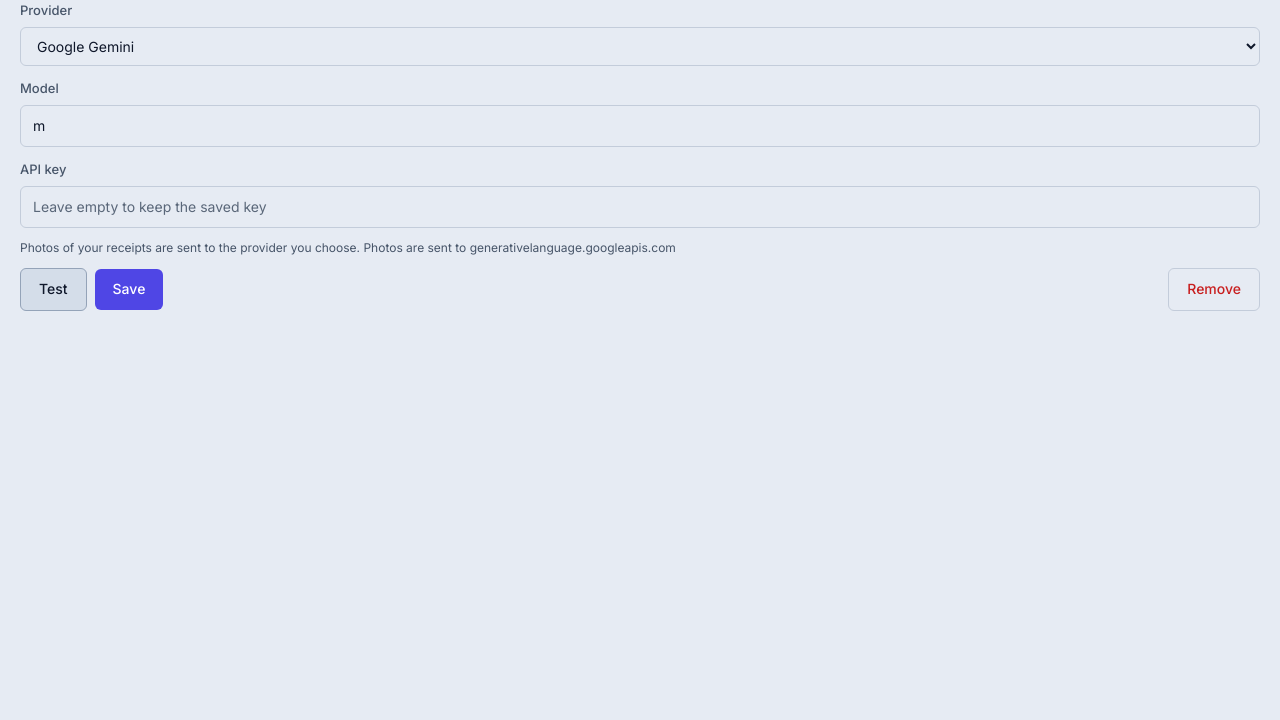
Scenario: cancelling the question removes nothing
This screenshot has width=1280, height=720.
Click the button "Remove": {"x": 1214, "y": 289} left=1168, top=268, right=1260, bottom=311
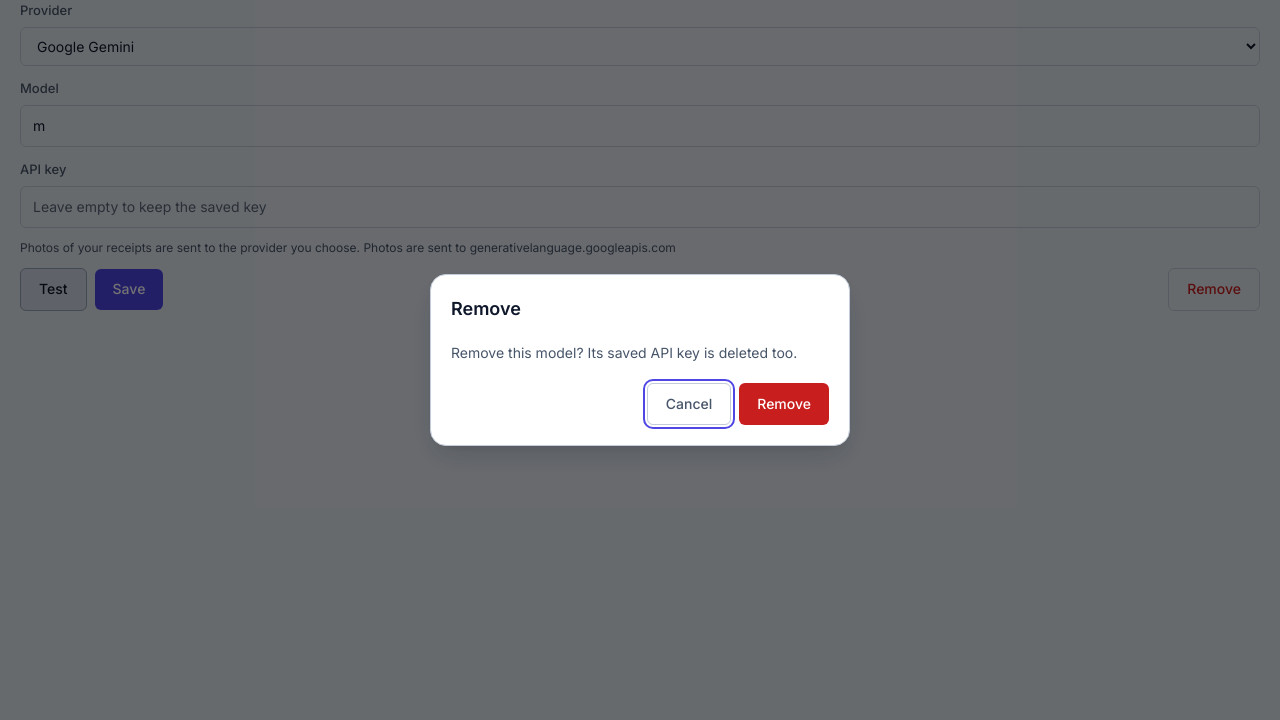
Click the button "Cancel": {"x": 689, "y": 404} left=647, top=383, right=731, bottom=425
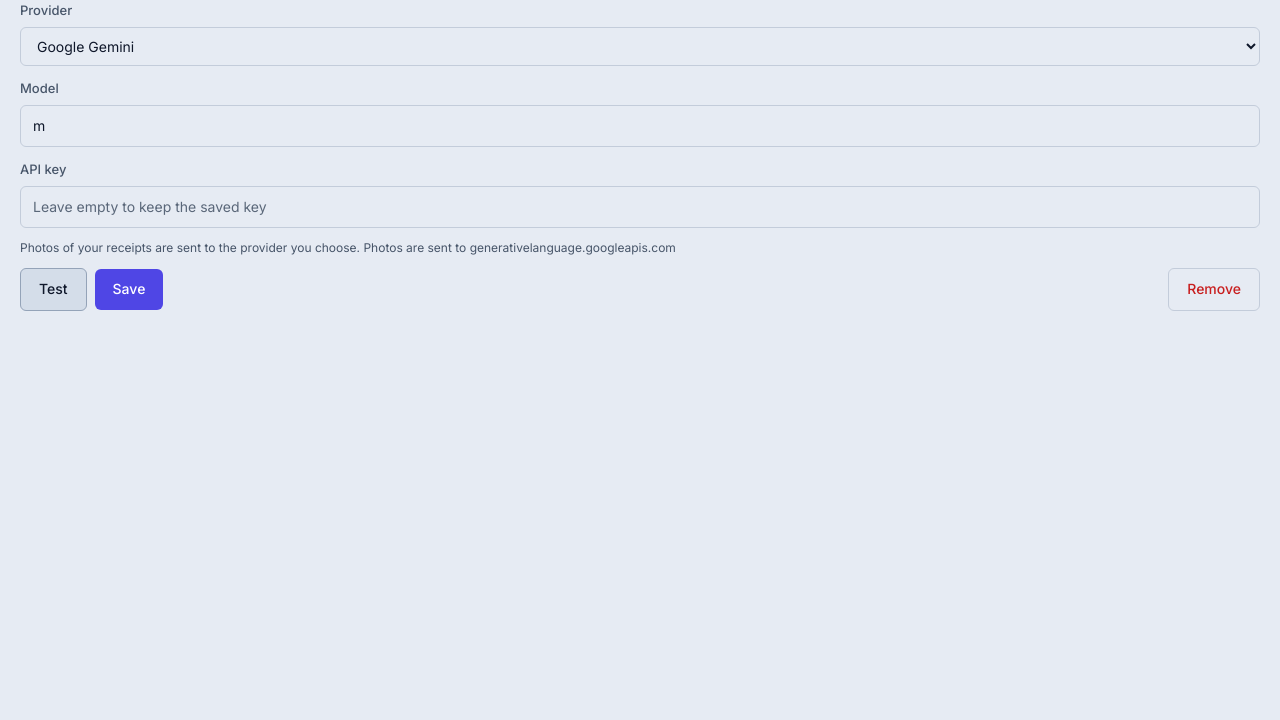
Expected: the field labelled "Model" holds "m", left=20, top=105, right=1260, bottom=147
Now the dialog is gone
